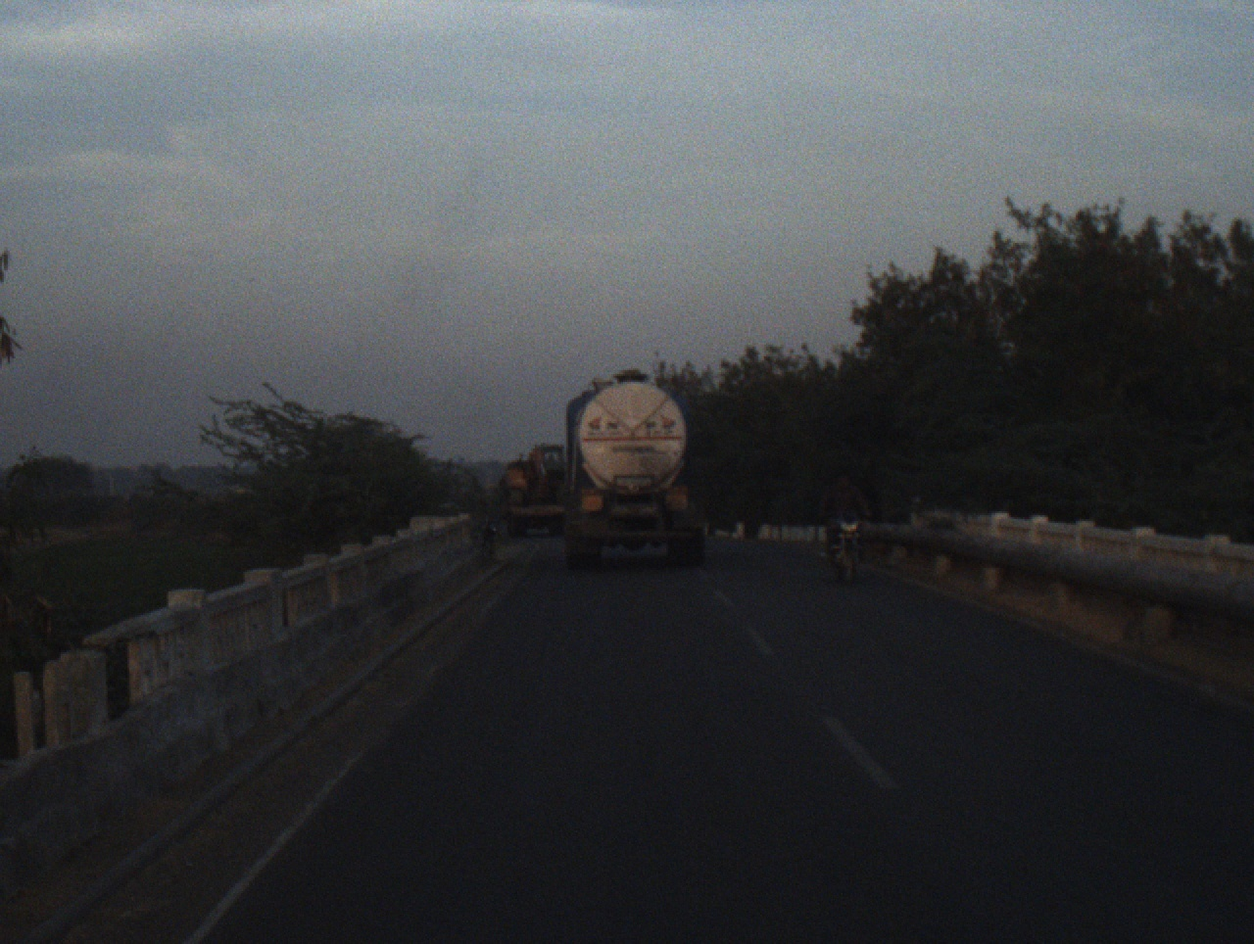motorcycle: (816, 500, 877, 587)
rider: (817, 465, 869, 574)
truck: (551, 364, 710, 567)
vehicle fallback: (505, 436, 576, 533)
